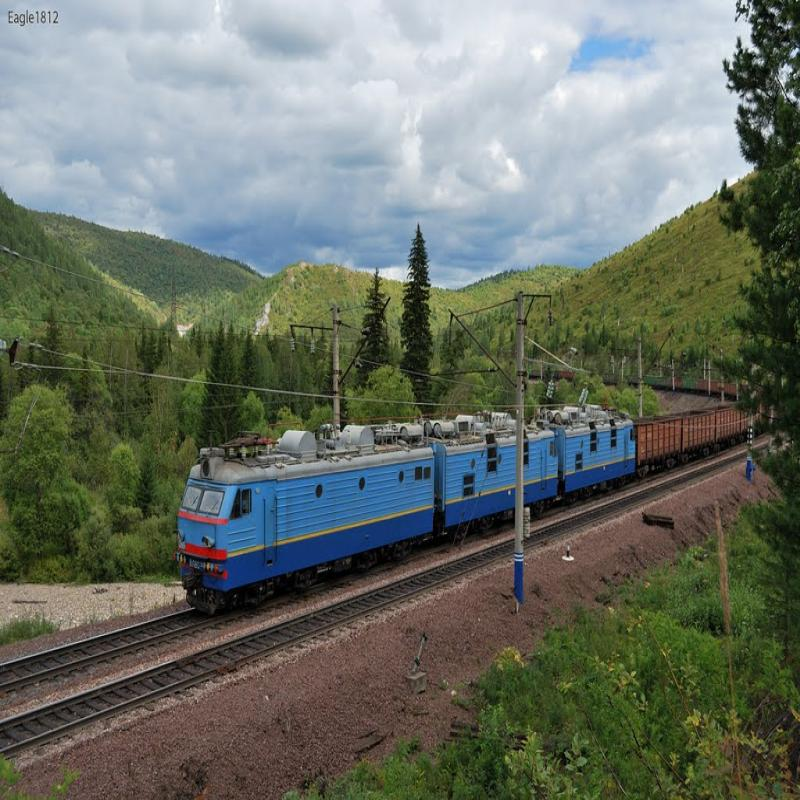train: (166, 402, 445, 630), (423, 381, 564, 561), (547, 394, 641, 528), (628, 386, 736, 490)
